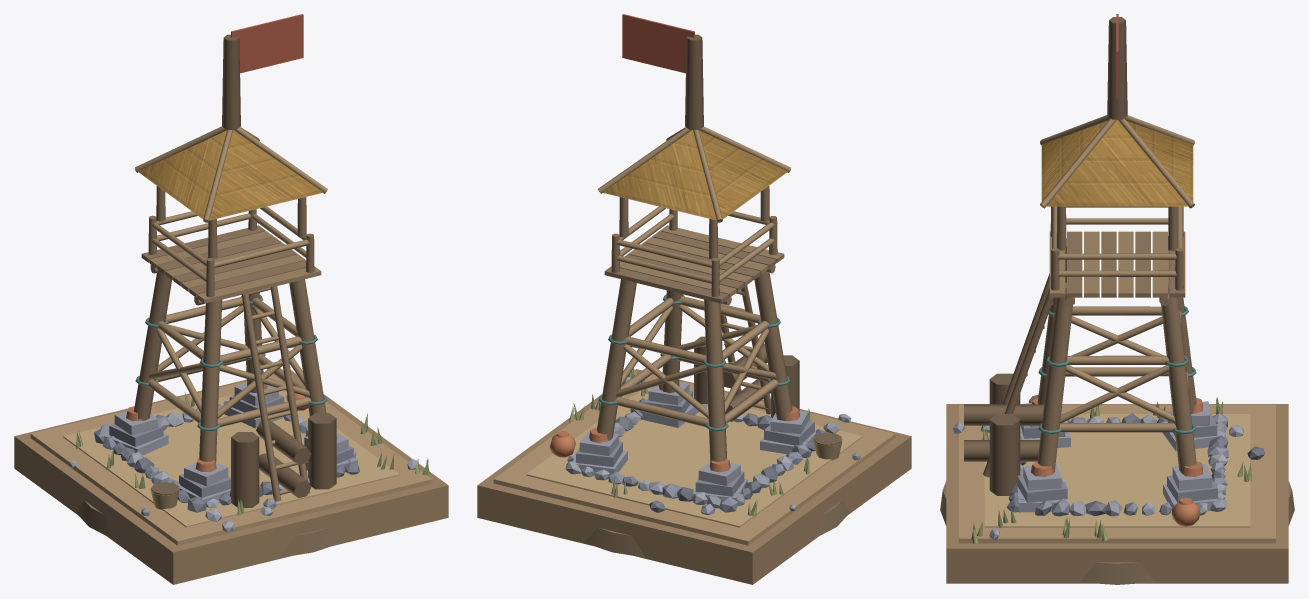
The model's file is num-5-built.glb.
3 renders of one model, left to right at view 1: azimuth 30°, elevation 25°; view 2: azimuth 150°, elevation 25°; view 3: azimuth 270°, elevation 25°, orthographic. The views are drawn at different scales.
Visible parts, largest first — view 1: era1, Era1DepthKit; view 2: era1, Era1DepthKit; view 3: era1, Era1DepthKit.
Boxes of the visible parts, x1,y1,x2,y2 form: era1: (14,126,448,584); Era1DepthKit: (76,14,341,557); era1: (477,126,911,584); Era1DepthKit: (584,14,849,557); era1: (946,115,1288,583); Era1DepthKit: (940,14,1294,584).
Size of the model in its own units: 8.28 by 12.81 by 8.28.
Materials: 25 (1 with a texture image).
